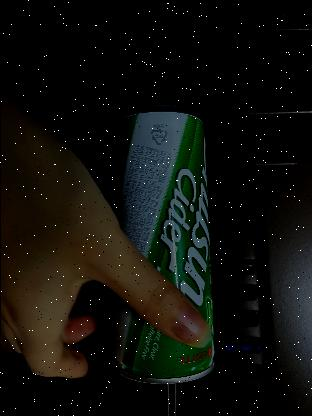Can: (113, 102, 214, 384), (108, 291, 213, 384)
